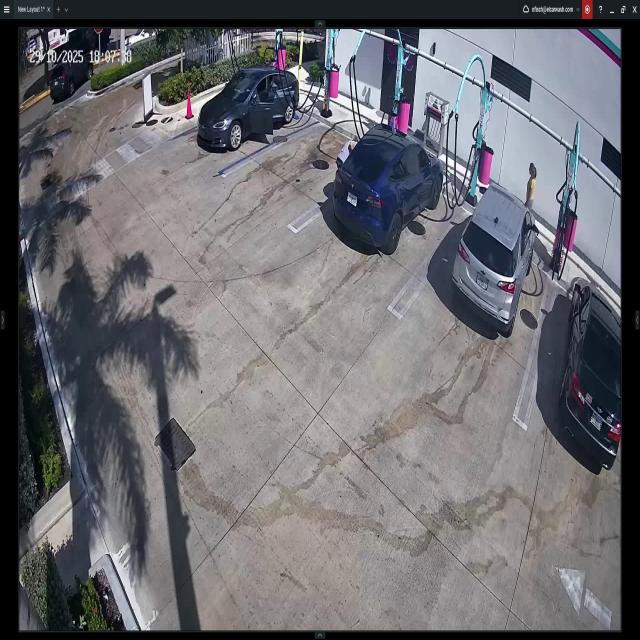Car: (334, 125, 441, 260), (459, 187, 534, 339), (563, 282, 621, 467), (203, 65, 300, 153), (51, 56, 93, 104)
